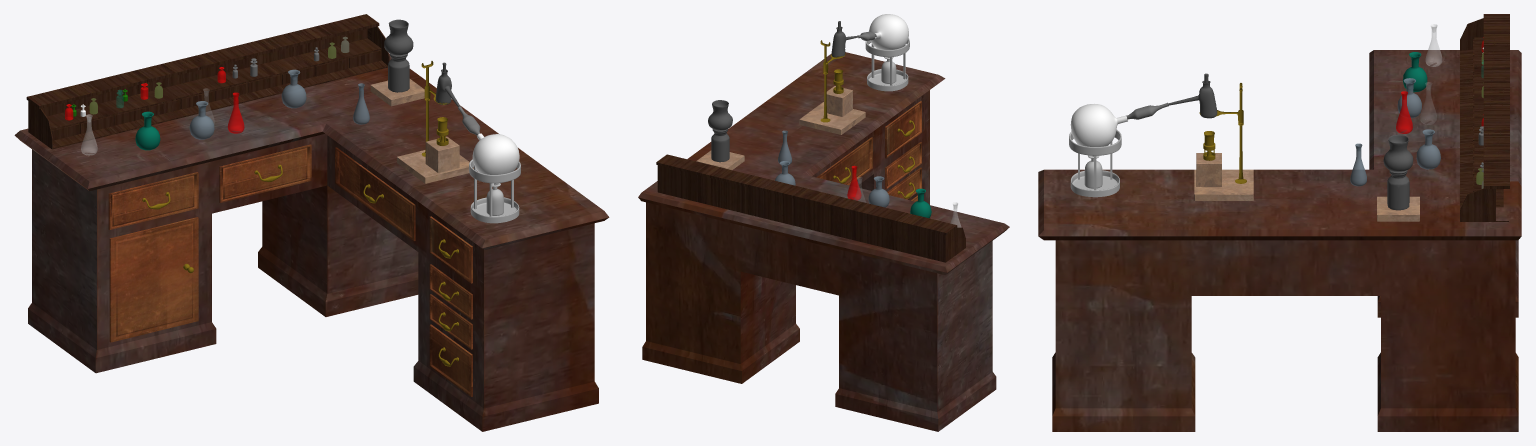
The model's file is kemiaasztal.glb.
The picture shows the model from 3 angles, left to right: view 1: azimuth 30°, elevation 25°; view 2: azimuth 150°, elevation 25°; view 3: azimuth 270°, elevation 25°; orthographic projection. The views are drawn at different scales.
Parts seen in each view (by area): view 1: kemiaasztal_test, kemiaasztal_teto, kemiaasztal_uvegtarto_test, kemiaasztal_fiok_4, kemiaasztal_nagy_2, kemiaasztal_uvegtarto_teto, kemiaasztal_fiok_7, kemiaasztal_fiok_8, kemiaasztal_fiok_6, kemiaasztal_fiok_3, kemiaasztal_fiok_2, kemiaasztal_nagy_uveg_3 (+6 smaller); view 2: kemiaasztal_test, kemiaasztal_teto, kemiaasztal_uvegtarto_test, kemiaasztal_nagy_2, kemiaasztal_uvegtarto_teto, kemiaasztal_fiok_6, kemiaasztal_fiok_2, kemiaasztal_nagy_uveg_3, kemiaasztal_fiok_5, kemiaasztal_fiok_1, kemiaasztal_nagy_uveg_3_alj, kemiaasztal_nagy_uveg_6 (+1 smaller); view 3: kemiaasztal_test, kemiaasztal_teto, kemiaasztal_nagy_2, kemiaasztal_uvegtarto_test, kemiaasztal_uvegtarto_teto, kemiaasztal_nagy_uveg_3, kemiaasztal_nagy_uveg_3_alj, kemiaasztal_nagy_uveg_2, kemiaasztal_nagy_uveg_6, kemiaasztal_nagy_uveg_7.
Part boxes in pixels (bbox=[...]): kemiaasztal_test: bbox=[28, 133, 598, 431]; kemiaasztal_teto: bbox=[14, 53, 609, 249]; kemiaasztal_uvegtarto_test: bbox=[28, 26, 389, 149]; kemiaasztal_fiok_4: bbox=[109, 217, 198, 342]; kemiaasztal_nagy_2: bbox=[397, 61, 520, 223]; kemiaasztal_uvegtarto_teto: bbox=[26, 14, 379, 108]; kemiaasztal_fiok_7: bbox=[219, 144, 311, 202]; kemiaasztal_fiok_8: bbox=[108, 172, 198, 229]; kemiaasztal_fiok_6: bbox=[335, 147, 415, 240]; kemiaasztal_fiok_3: bbox=[429, 324, 472, 396]; kemiaasztal_fiok_2: bbox=[429, 216, 472, 283]; kemiaasztal_nagy_uveg_3: bbox=[384, 19, 413, 92]; kemiaasztal_test: bbox=[642, 90, 996, 431]; kemiaasztal_teto: bbox=[638, 52, 1009, 275]; kemiaasztal_uvegtarto_test: bbox=[657, 165, 965, 262]; kemiaasztal_nagy_2: bbox=[799, 14, 909, 134]; kemiaasztal_uvegtarto_teto: bbox=[656, 154, 957, 235]; kemiaasztal_fiok_6: bbox=[816, 137, 872, 185]; kemiaasztal_fiok_2: bbox=[885, 101, 921, 158]; kemiaasztal_nagy_uveg_3: bbox=[708, 100, 732, 162]; kemiaasztal_fiok_5: bbox=[885, 142, 921, 189]; kemiaasztal_fiok_1: bbox=[887, 167, 921, 199]; kemiaasztal_nagy_uveg_3_alj: bbox=[696, 150, 744, 169]; kemiaasztal_nagy_uveg_6: bbox=[868, 176, 889, 207]; kemiaasztal_test: bbox=[1052, 240, 1518, 431]; kemiaasztal_teto: bbox=[1038, 50, 1521, 240]; kemiaasztal_nagy_2: bbox=[1069, 73, 1253, 200]; kemiaasztal_uvegtarto_test: bbox=[1460, 18, 1508, 221]; kemiaasztal_uvegtarto_teto: bbox=[1483, 14, 1509, 188]; kemiaasztal_nagy_uveg_3: bbox=[1383, 135, 1413, 210]; kemiaasztal_nagy_uveg_3_alj: bbox=[1377, 196, 1419, 221]; kemiaasztal_nagy_uveg_2: bbox=[1416, 129, 1440, 169]; kemiaasztal_nagy_uveg_6: bbox=[1397, 78, 1421, 118]; kemiaasztal_nagy_uveg_7: bbox=[1403, 52, 1427, 92].
Bounding box in the file's own units: 1.61 × 1.3 × 1.8.
19 materials, 5 textured.
